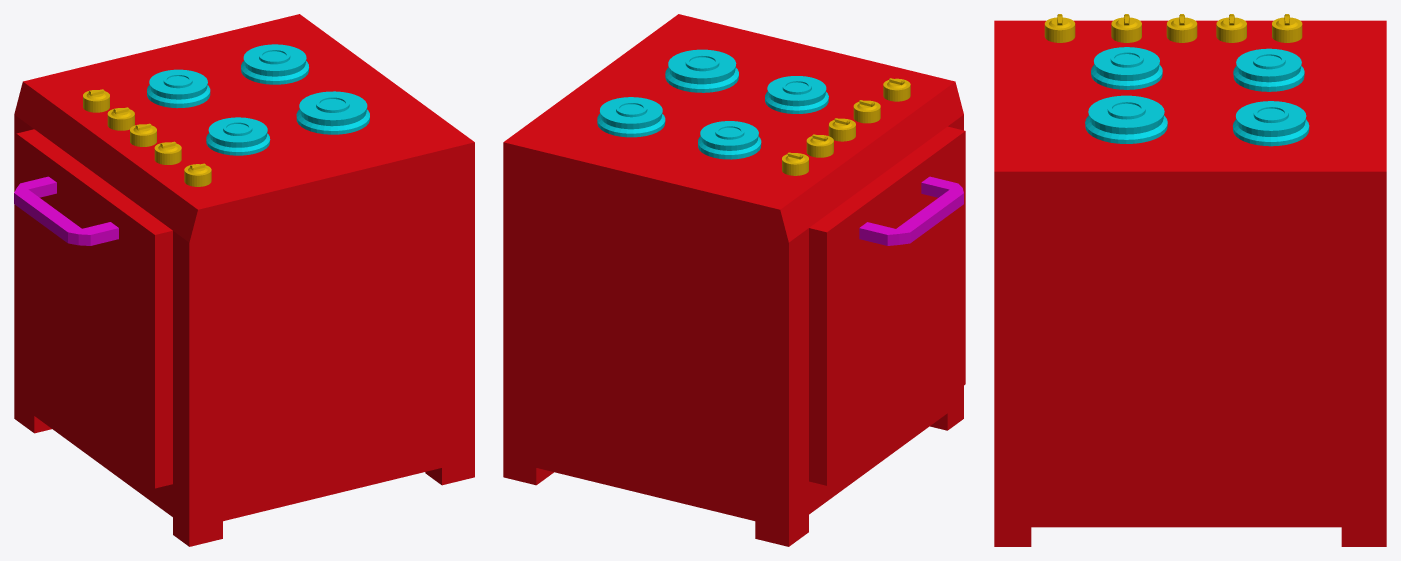
Rendered from Stove.fbx.
The picture shows the model from 3 angles, left to right: view 1: azimuth 30°, elevation 25°; view 2: azimuth 150°, elevation 25°; view 3: azimuth 270°, elevation 25°; orthographic projection. The views are drawn at different scales.
Visible parts, largest first — view 1: Principal; view 2: Principal; view 3: Principal.
Part boxes in pixels (x1,y1,x2,y2): Principal: (14, 14, 474, 546); Principal: (503, 14, 965, 546); Principal: (994, 14, 1386, 546).
Size of the model in its own units: 114 by 111 by 100.
